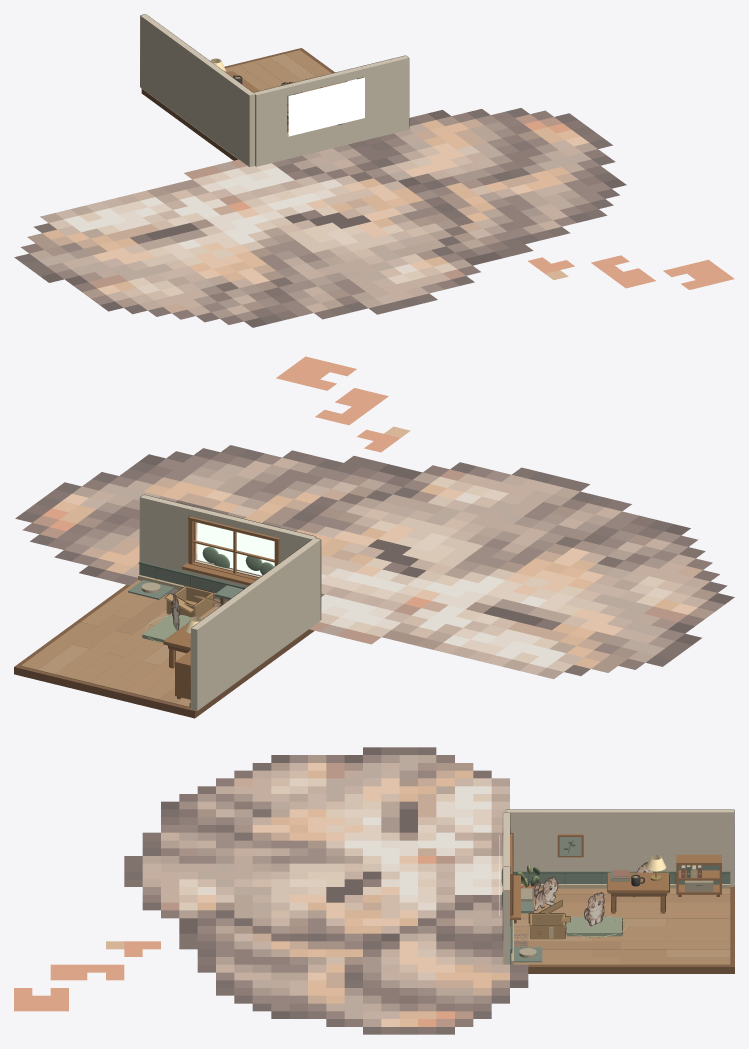
The picture shows the model from 3 angles, top to bottom: view 1: azimuth 30°, elevation 25°; view 2: azimuth 150°, elevation 25°; view 3: azimuth 270°, elevation 25°; orthographic projection. The views are drawn at different scales.
Parts seen in each view (by area): view 1: sleepy head, sleepy body, back plaster, sleepy ear_r, sleepy ear_l, window wall.001, quiet world outside, sleepy body_rest, window wall, sleepy paw_fl, window wall.002, sleepy paw_fr (+3 smaller); view 2: sleepy head, sleepy body, back plaster, sleepy ear_r, sleepy ear_l, window wall.001, sleepy body_rest, solid room plinth, sleepy paw_fl, quiet world outside, sleepy paw_fr, quiet oak floor.019 (+14 smaller); view 3: sleepy head, sleepy body, back plaster, sleepy ear_r, sleepy ear_l, sleepy body_rest, solid room plinth, sleepy paw_fl, low oak table, quiet oak floor.019, quiet oak floor.009, linen floor cushion (+17 smaller).
Boxes of the visible parts, x1,y1,x2,y2 form: sleepy head: (14, 156, 517, 319); sleepy body: (162, 108, 626, 254); back plaster: (140, 14, 254, 166); sleepy ear_r: (370, 218, 508, 307); sleepy ear_l: (170, 280, 328, 327); window wall.001: (360, 55, 408, 140); quiet world outside: (288, 77, 364, 136); sleepy body_rest: (528, 255, 734, 289); window wall: (254, 85, 286, 166); sleepy paw_fl: (40, 187, 178, 229); window wall.002: (287, 118, 363, 159); sleepy paw_fr: (177, 156, 307, 189); sleepy head: (242, 460, 734, 675); sleepy body: (15, 445, 425, 645); back plaster: (191, 538, 320, 710); sleepy ear_r: (304, 464, 555, 515); sleepy ear_l: (548, 507, 712, 580); window wall.001: (140, 495, 195, 574); sleepy body_rest: (276, 356, 410, 452); solid room plinth: (14, 584, 314, 718); sleepy paw_fl: (416, 631, 573, 679); quiet world outside: (197, 522, 274, 575); sleepy paw_fr: (309, 613, 408, 644); quiet oak floor.019: (56, 630, 131, 678); sleepy head: (124, 747, 491, 949); sleepy body: (179, 840, 528, 1034); back plaster: (506, 809, 733, 886); sleepy ear_r: (124, 871, 271, 949); sleepy ear_l: (161, 778, 271, 848); sleepy body_rest: (14, 941, 160, 1011); solid room plinth: (528, 886, 734, 973); sleepy paw_fl: (473, 778, 509, 840); low oak table: (607, 872, 669, 893); quiet oak floor.019: (620, 941, 730, 949); quiet oak floor.009: (620, 910, 730, 918); linen floor cushion: (567, 917, 621, 936).
Size of the model in its own units: 37 by 4.96 by 39.25.
